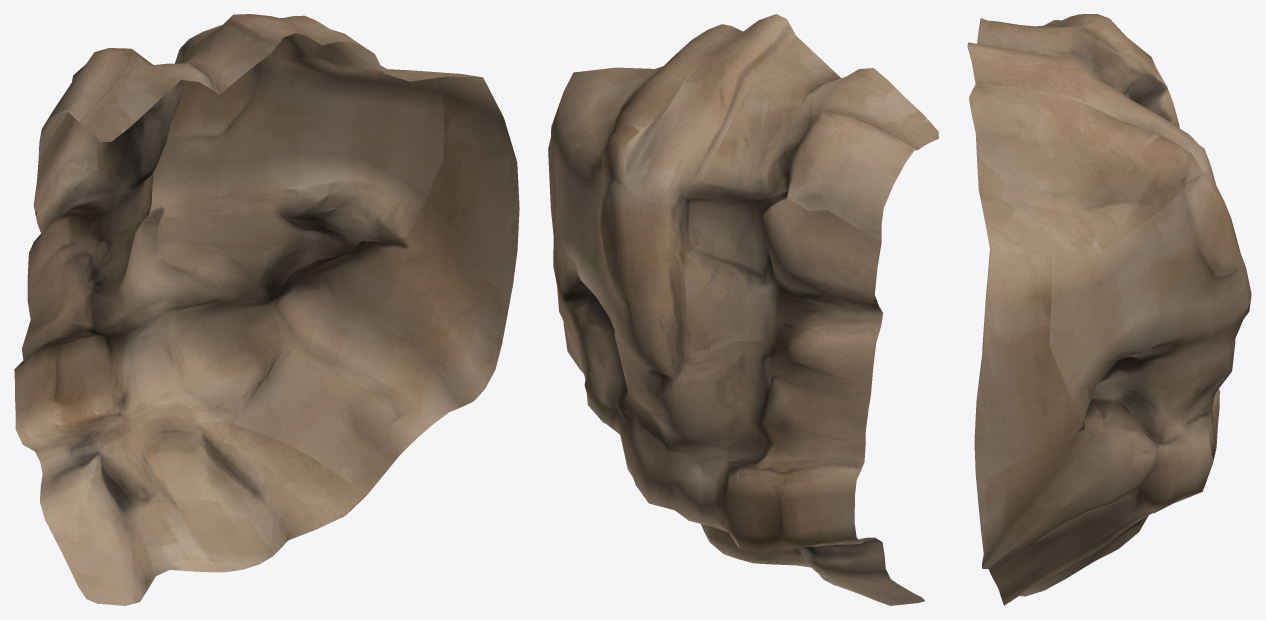
The model's file is props_coalmines_boulder7_huge.glb.
3 views of the same model, side by side, from view 1: azimuth 30°, elevation 25°; view 2: azimuth 150°, elevation 25°; view 3: azimuth 270°, elevation 25° (orthographic). The views are drawn at different scales.
Visible parts, largest first — view 1: models/props_coalmines/boulder7_huge; view 2: models/props_coalmines/boulder7_huge; view 3: models/props_coalmines/boulder7_huge.
Boxes of the visible parts, x1,y1,x2,y2 form: models/props_coalmines/boulder7_huge: (14, 14, 519, 605); models/props_coalmines/boulder7_huge: (548, 14, 938, 605); models/props_coalmines/boulder7_huge: (967, 14, 1251, 605).
Size of the model in its own units: 918 by 1180 by 531.
Materials: 1 (1 with a texture image).
